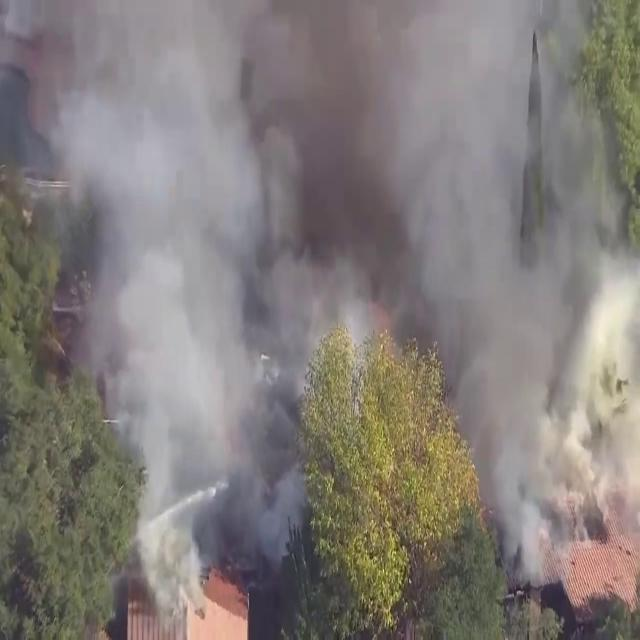Smoke: (5, 0, 637, 577)
